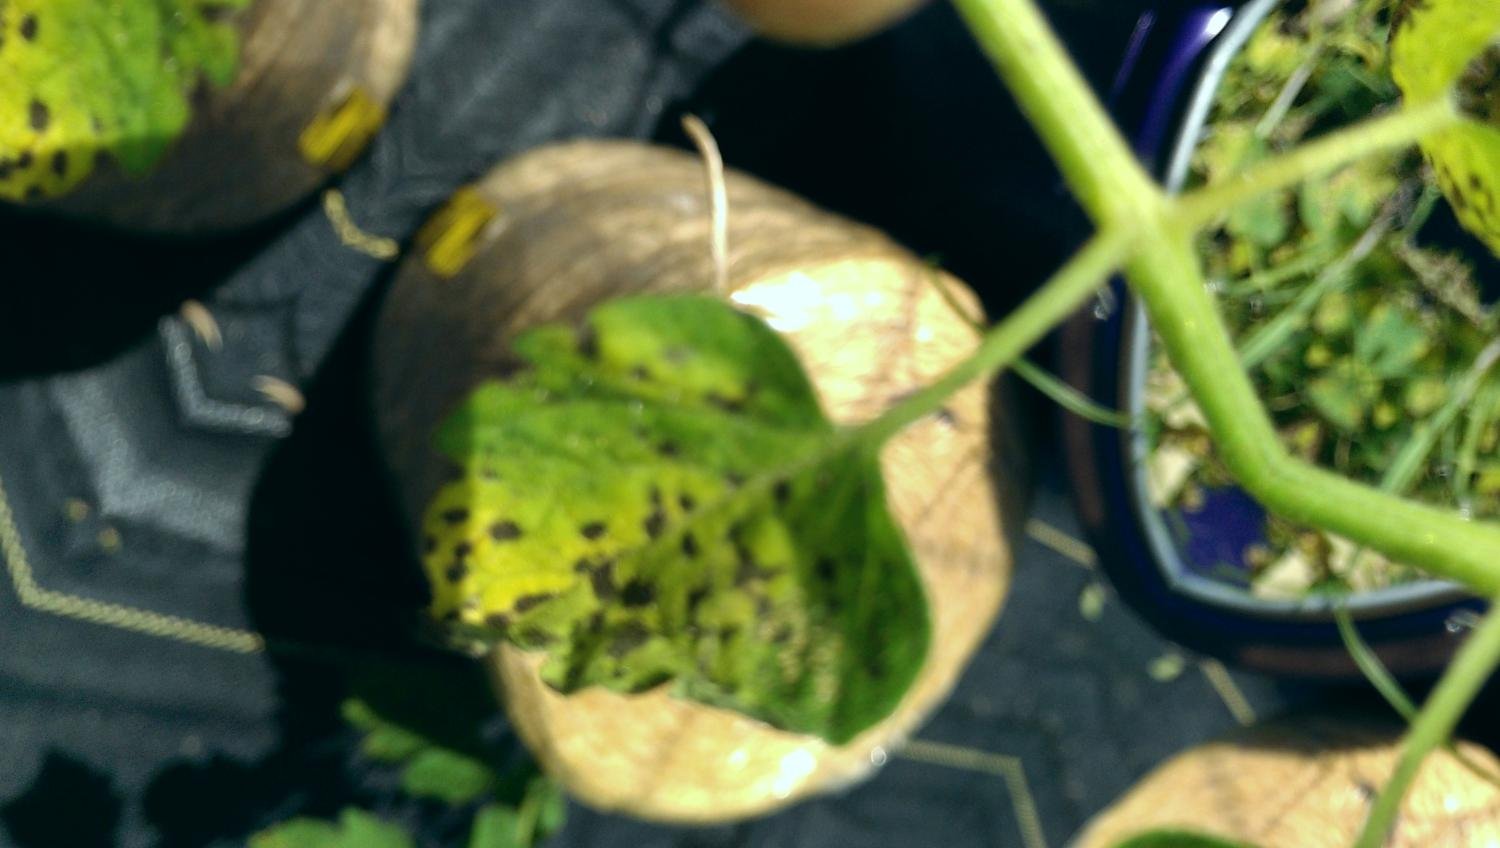Tomato Septoria leaf spot: (275, 136, 1063, 848)
